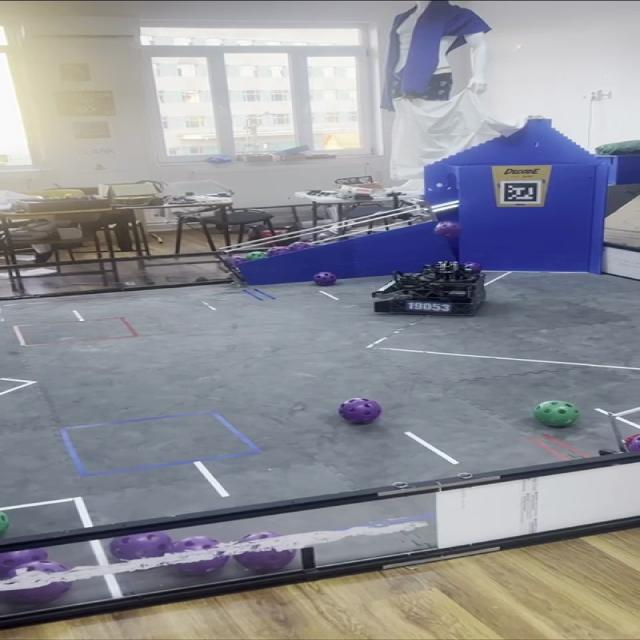artifact_green: (534, 401, 579, 427), (0, 512, 9, 538), (626, 435, 639, 453), (246, 252, 267, 260)
artifact_purple: (110, 533, 171, 560), (6, 582, 71, 604), (235, 548, 295, 571), (0, 549, 47, 577), (176, 552, 229, 574), (339, 398, 382, 424), (435, 222, 461, 239), (314, 271, 338, 286), (267, 246, 289, 256), (288, 242, 311, 251), (627, 436, 639, 452), (464, 262, 481, 273), (230, 256, 246, 266)
